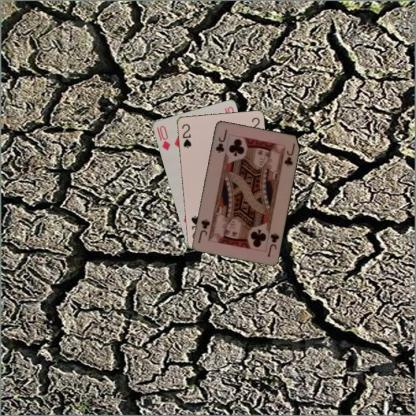10d: (157, 123, 171, 151)
2s: (179, 121, 193, 149)
Jc: (265, 230, 280, 258), (213, 127, 228, 154)
